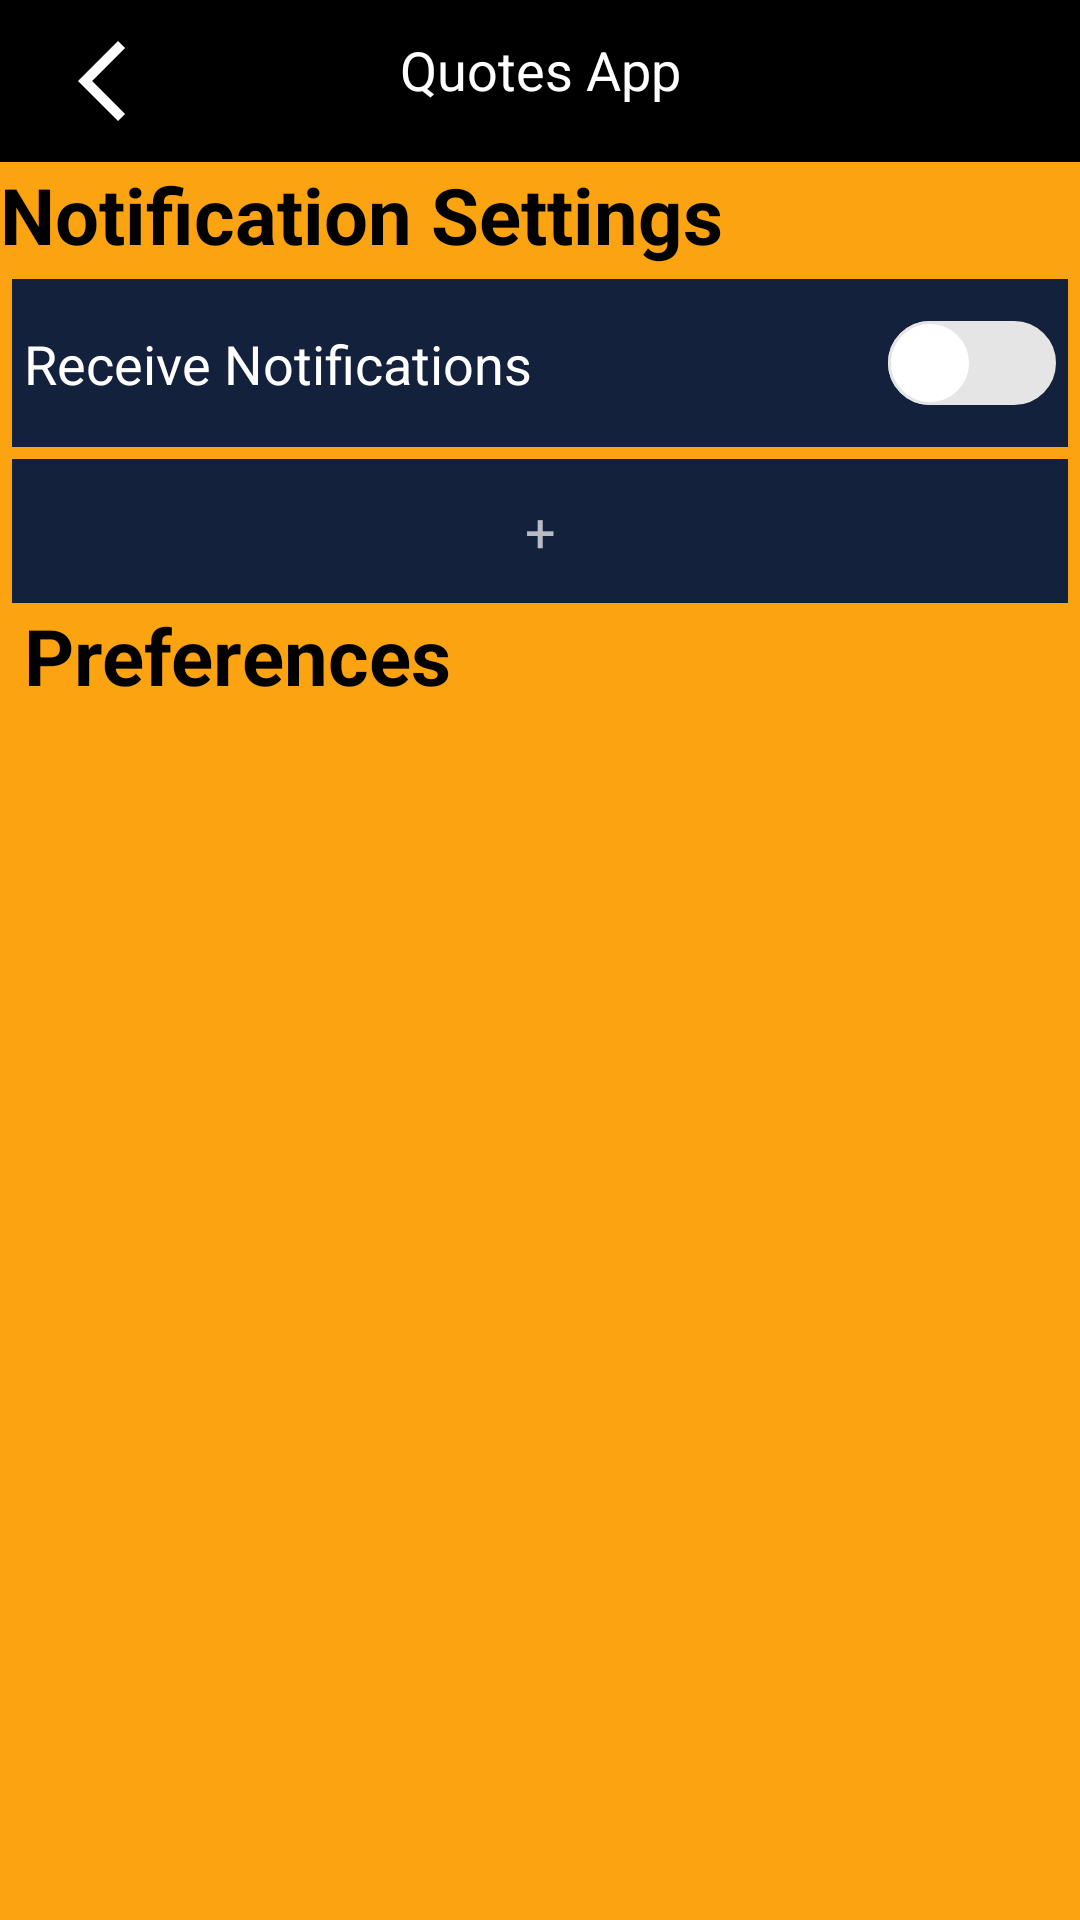

Icons on this 1080 x 1920 Android screen, each with the point to tap as [x,y]:
Back: [101,81]
